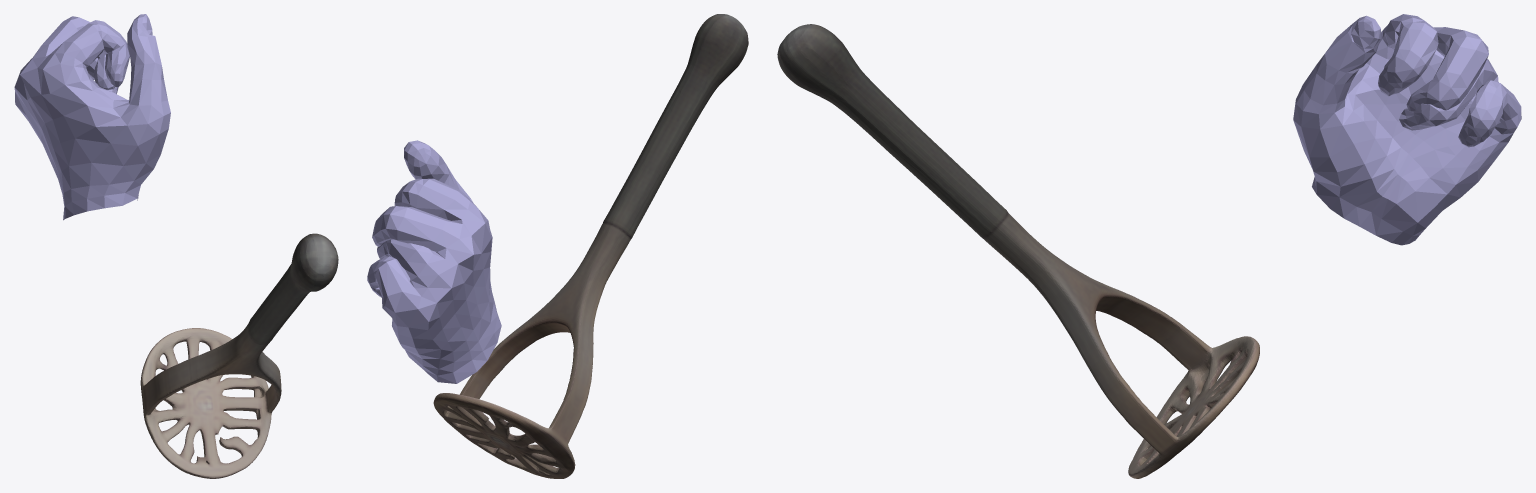
Rendered from frame_0074_source_000074_hand_object.glb.
3 views of the same model, side by side, from view 1: azimuth 30°, elevation 25°; view 2: azimuth 150°, elevation 25°; view 3: azimuth 270°, elevation 25° (orthographic). The views are drawn at different scales.
Visible parts, largest first — view 1: world; view 2: world; view 3: world.
Part boxes in pixels (left/top/right/bottom): world: left=14, top=14, right=338, bottom=478; world: left=367, top=14, right=748, bottom=478; world: left=777, top=14, right=1521, bottom=478.
Size of the model in its own units: 0.0852 by 0.2273 by 0.3316.
